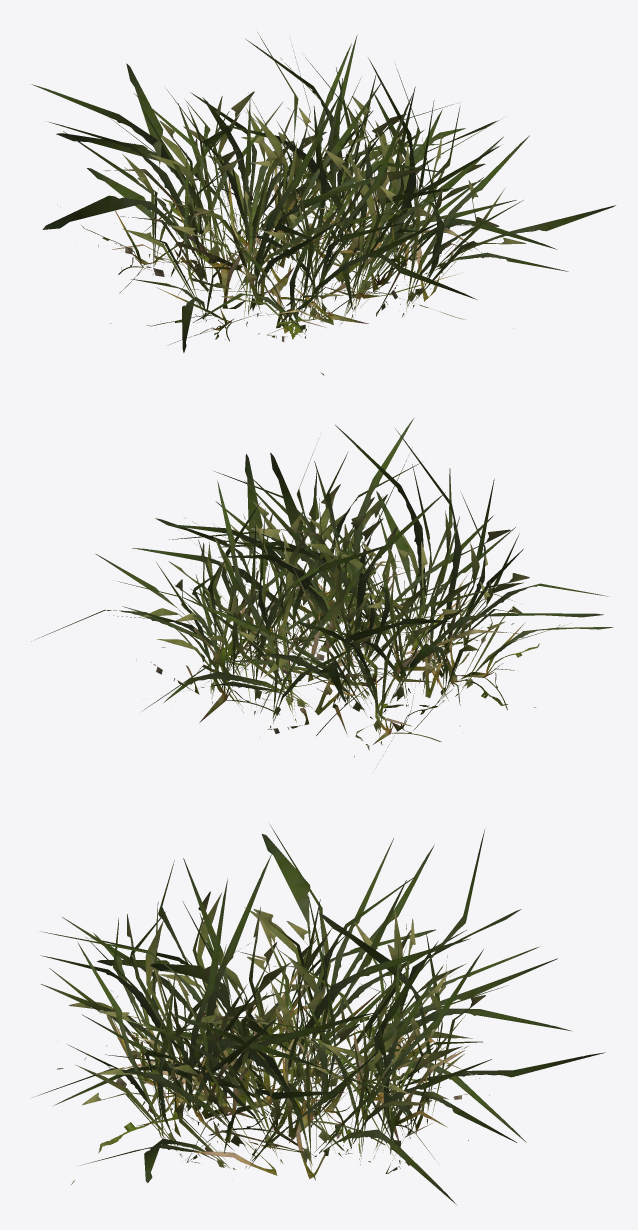
3 views of the same model, one above another, from view 1: azimuth 30°, elevation 25°; view 2: azimuth 150°, elevation 25°; view 3: azimuth 270°, elevation 25° (orthographic). The views are drawn at different scales.
Visible parts, largest first — view 1: grass_medium_01__b_lod0; view 2: grass_medium_01__b_lod0; view 3: grass_medium_01__b_lod0.
Boxes of the visible parts, x1,y1,x2,y2 form: grass_medium_01__b_lod0: [31, 32, 615, 375]; grass_medium_01__b_lod0: [31, 417, 613, 764]; grass_medium_01__b_lod0: [33, 825, 604, 1204].
Bounding box in the file's own units: 0.2859 × 0.1476 × 0.2567.
1 material, 1 textured.
